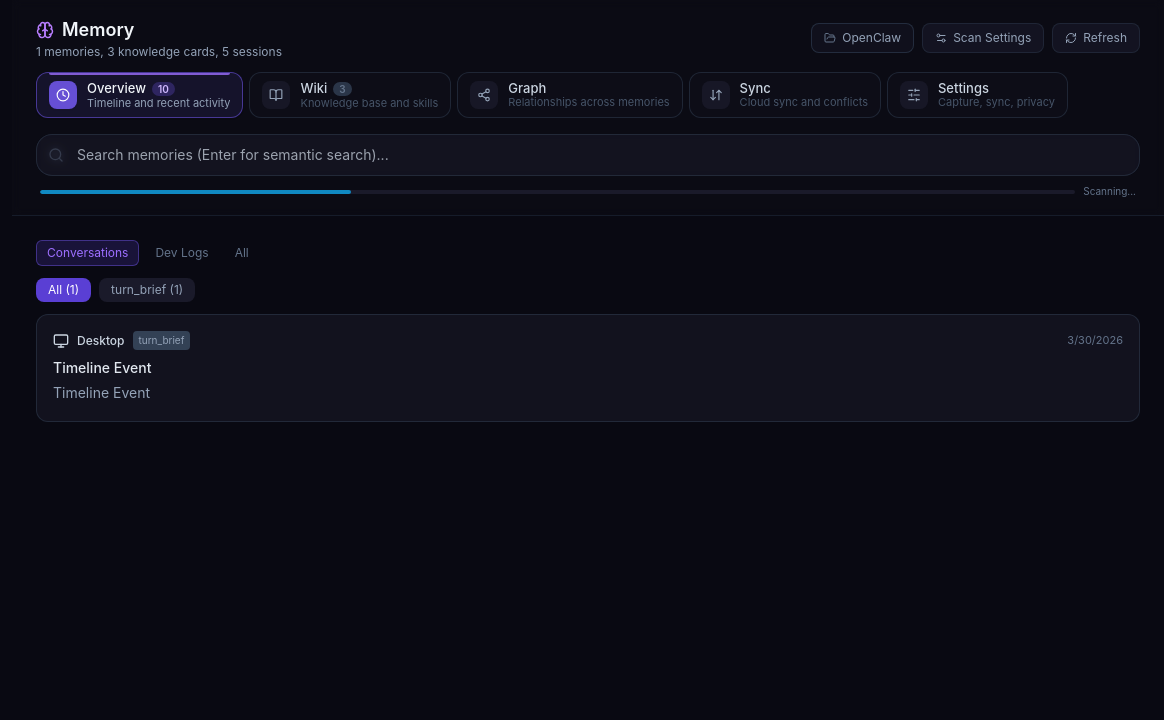
Test: Memory Page — Timeline & Daemon (E2E) › flow: switching between Overview and Wiki tabs works
Expected: the heading "Timeline Event" is shown, [53, 359, 151, 376]
Click the text "Wiki".
click(314, 88)  # box [300, 82, 327, 95]
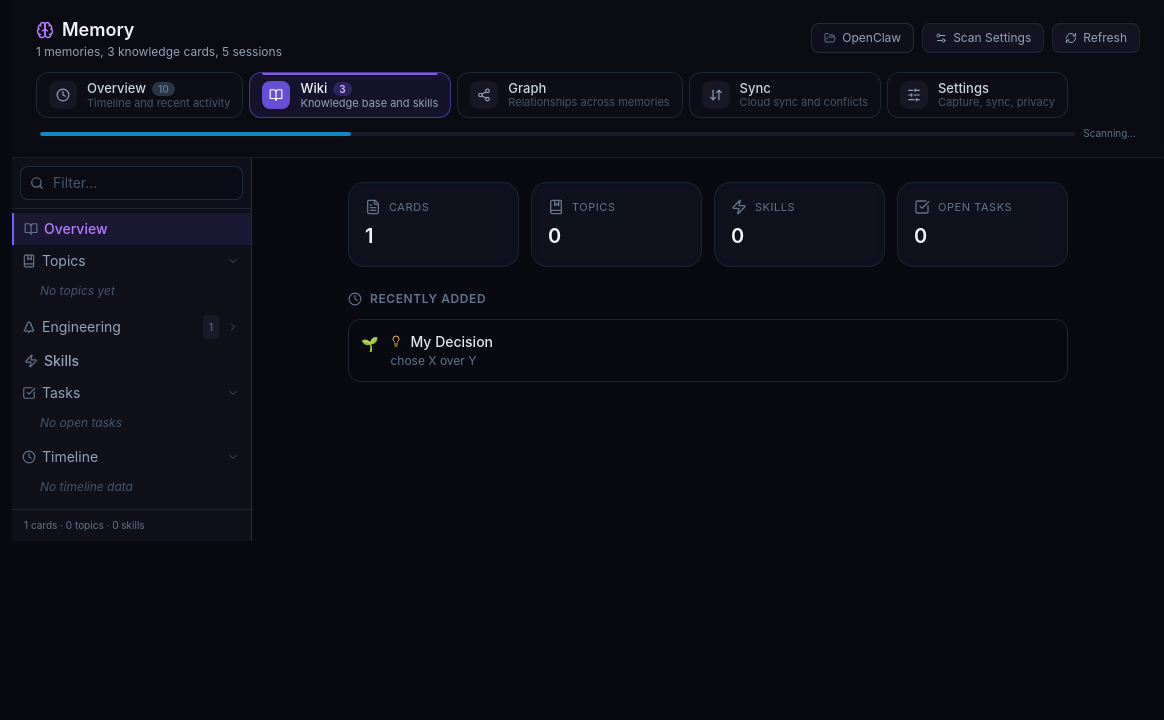
Expected: the text "My Decision" is shown, [410, 332, 493, 351]
